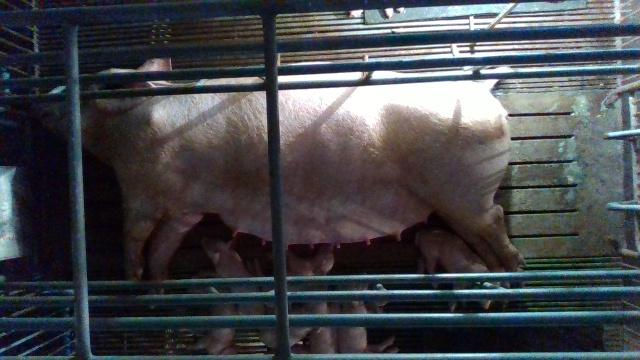piglet: (414, 226, 508, 314), (248, 229, 344, 309), (202, 231, 269, 318), (335, 268, 398, 357), (182, 272, 243, 360), (258, 295, 327, 356), (308, 278, 345, 356)
sow-sleep-lactate: (35, 55, 527, 300)
